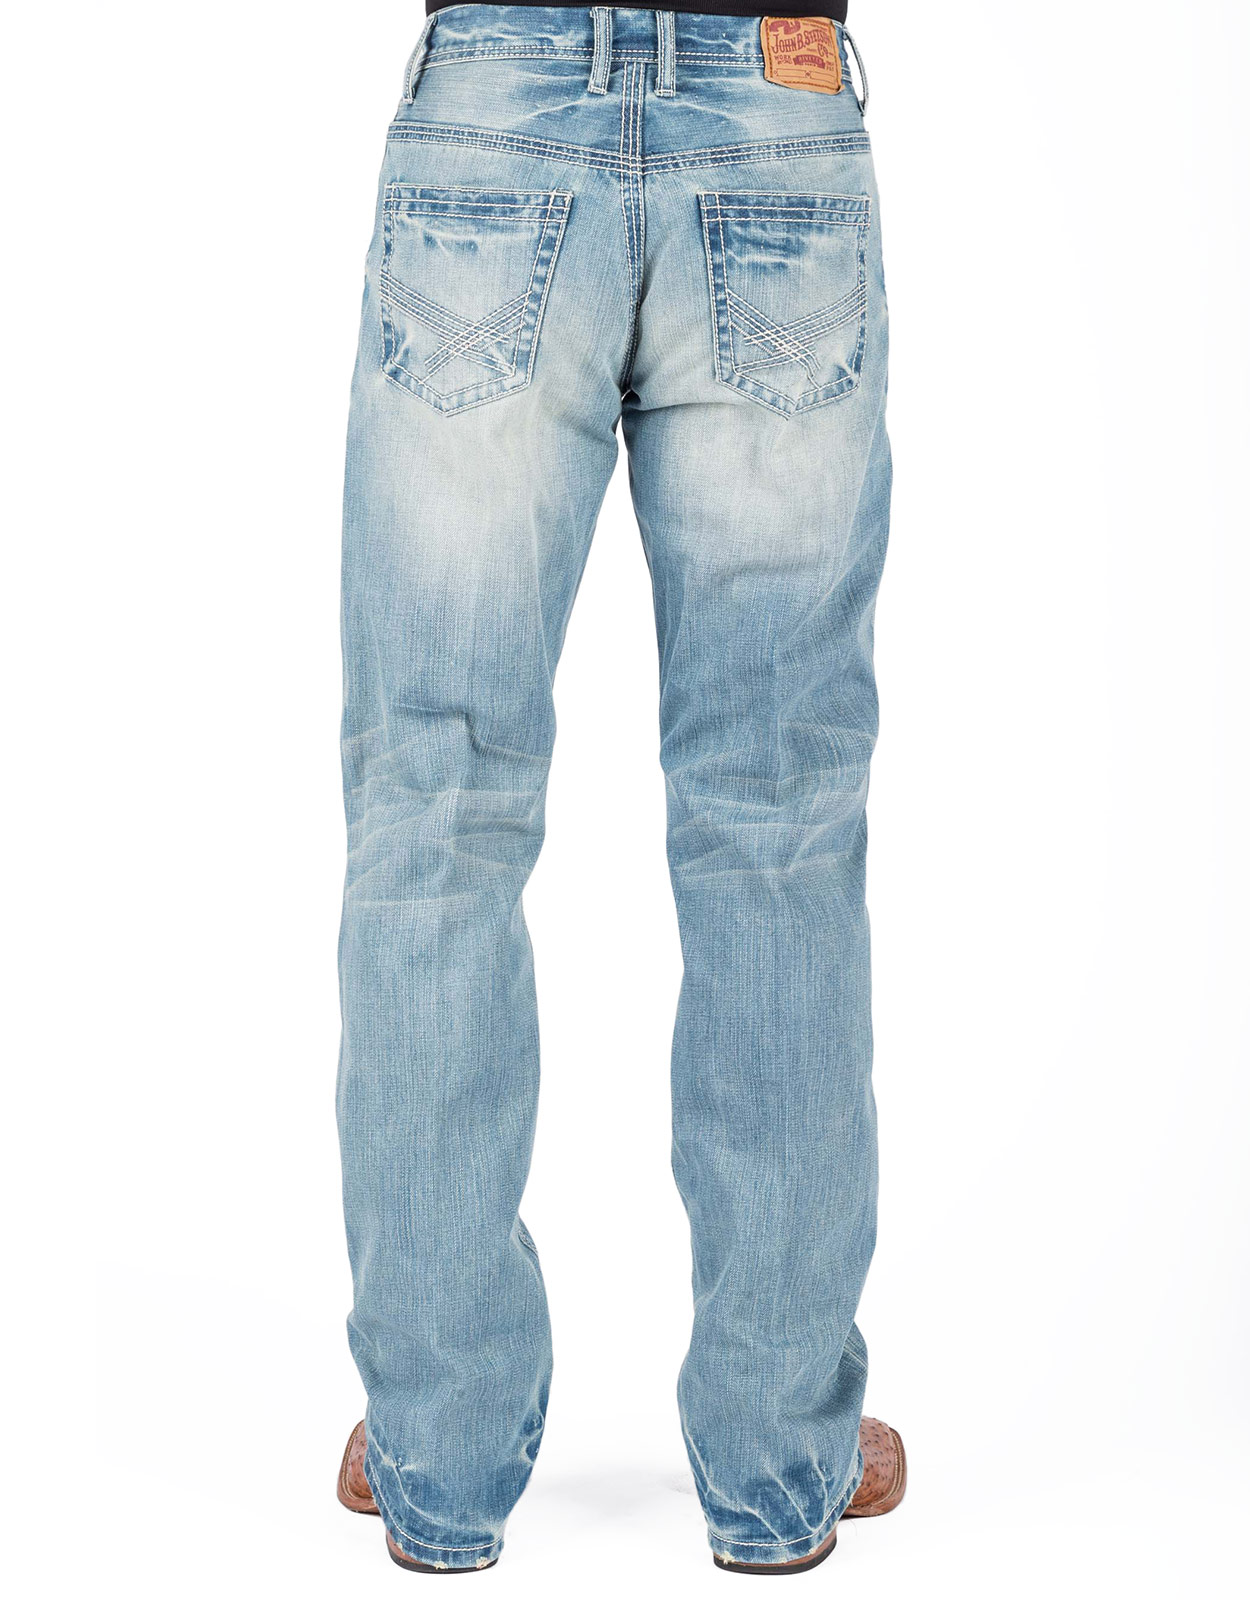Jeans: (292, 6, 921, 1577)
